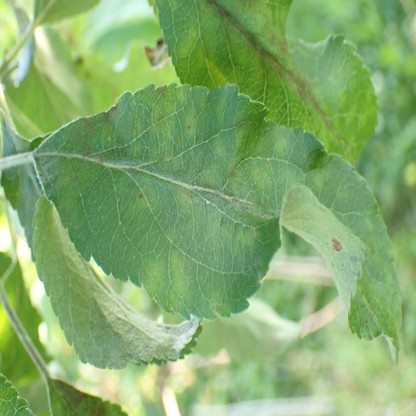scab: (56, 85, 401, 356), (169, 0, 350, 154), (54, 379, 105, 416)
